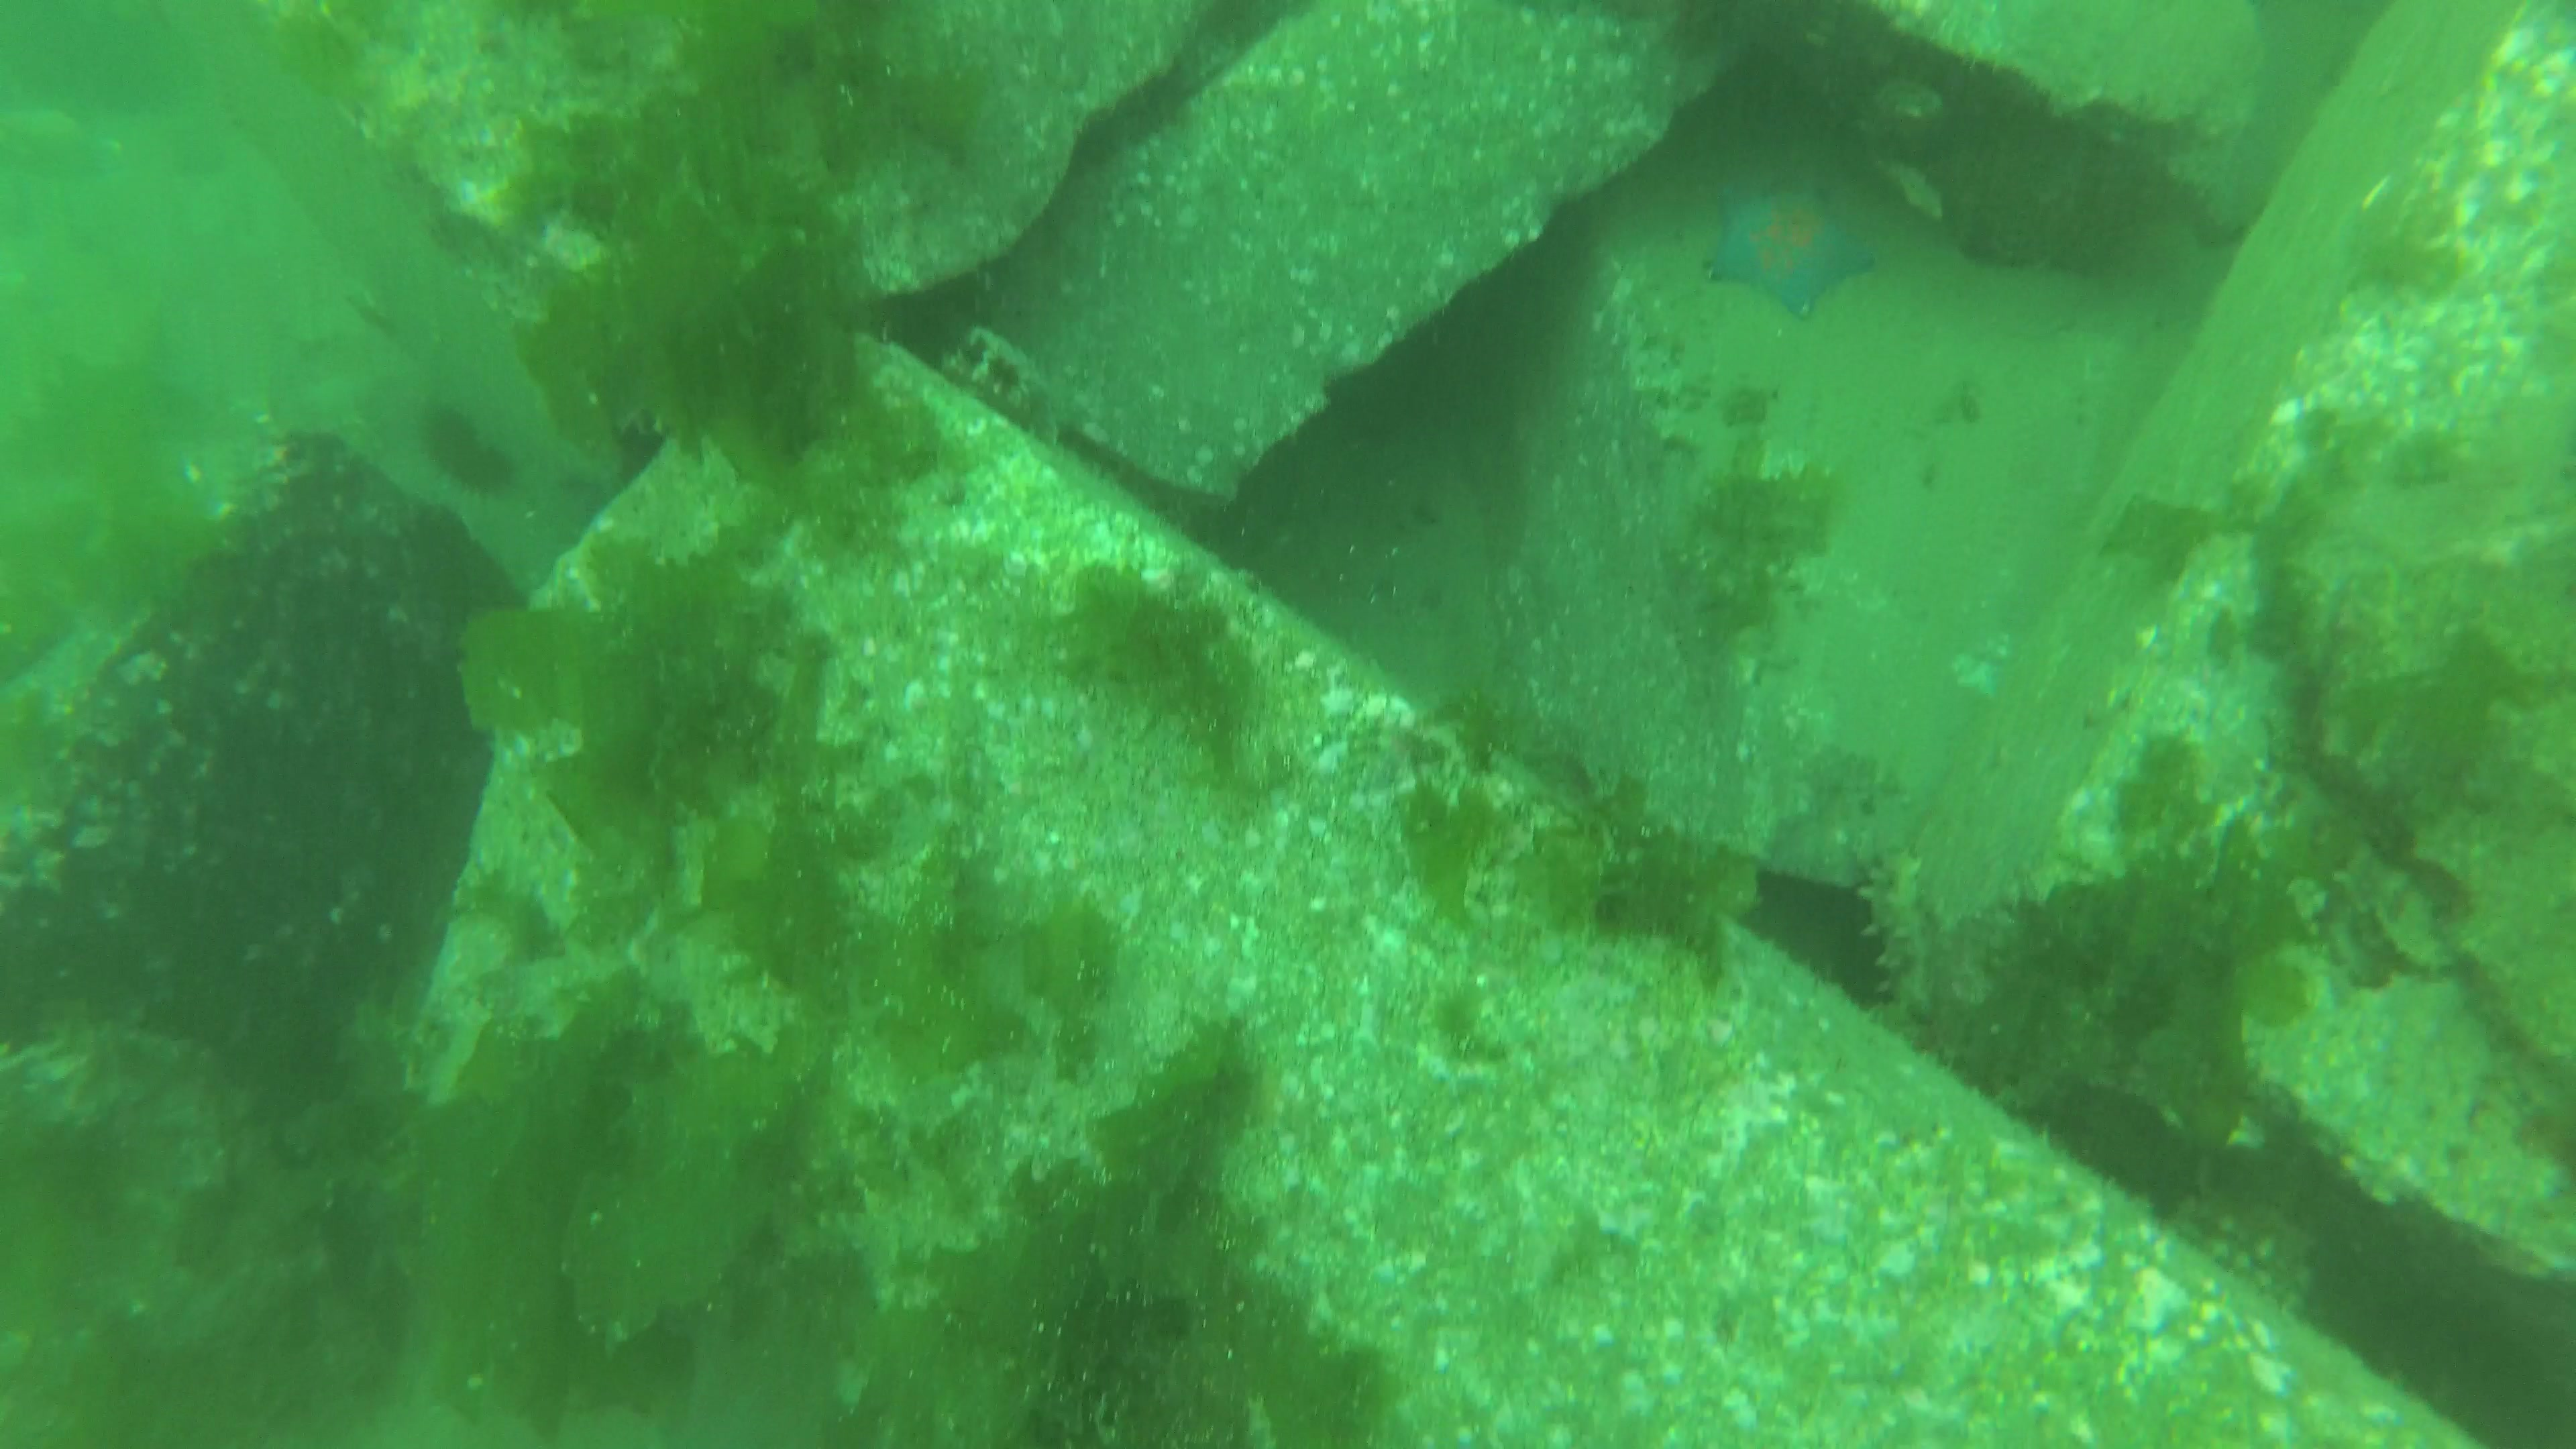echinus: (428, 402, 522, 499)
holothurian: (1852, 844, 1932, 1028)
starfish: (1713, 179, 1882, 318)
